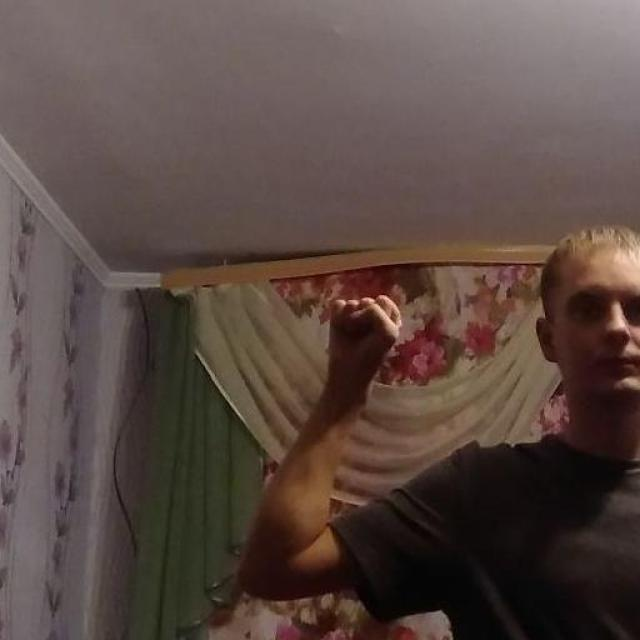hand: (322, 293, 402, 407)
